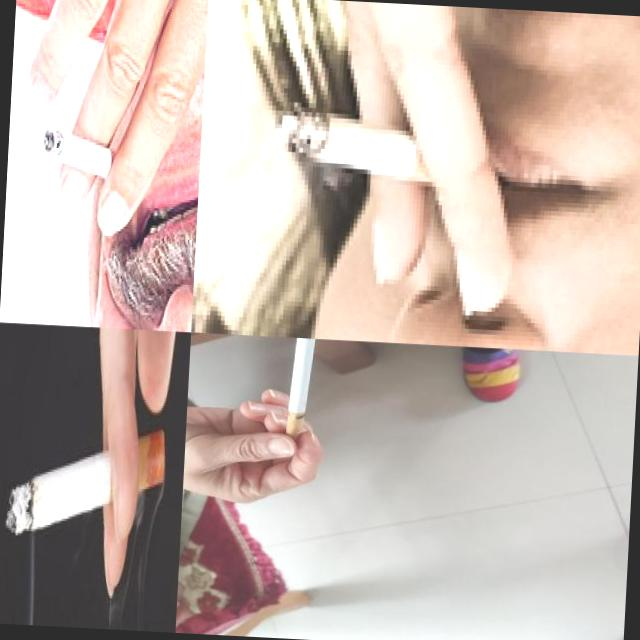smoke: (4, 418, 167, 546), (271, 104, 482, 194), (41, 126, 134, 192), (284, 338, 319, 443)
